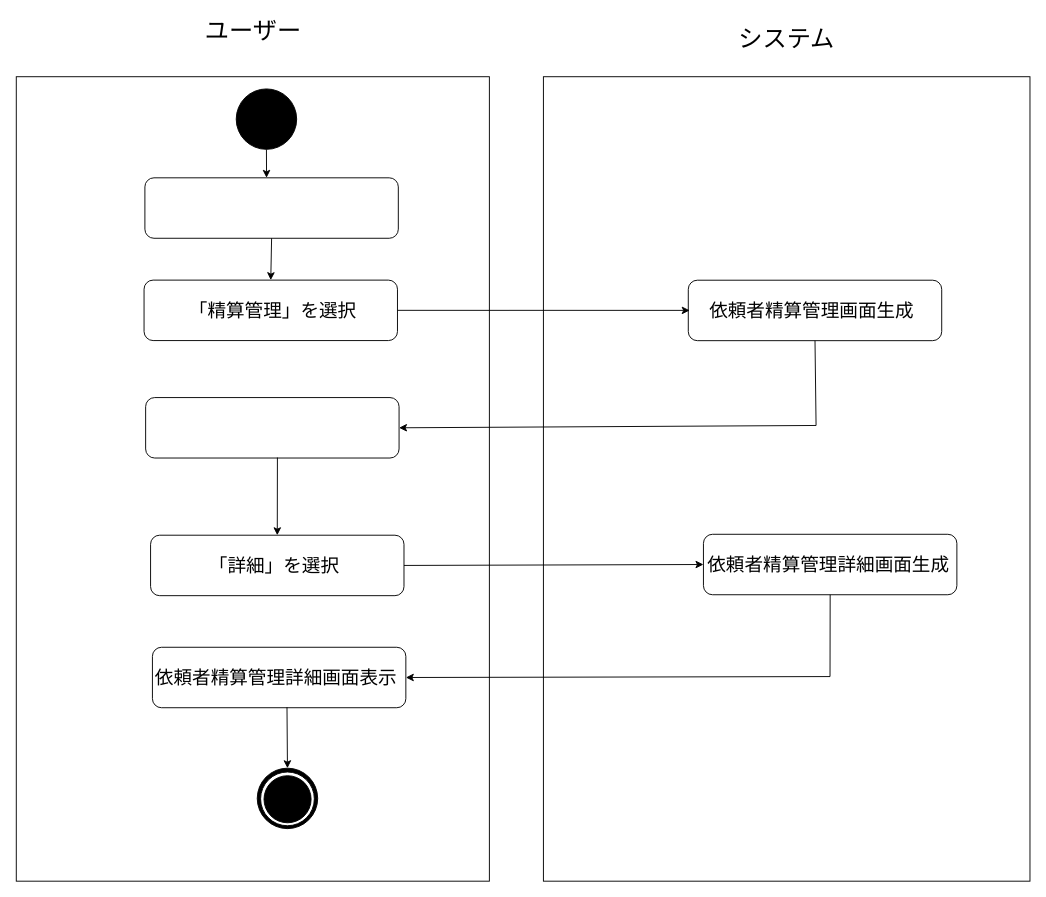
Some shapes in this 1046 by 897 pixel diagram are drawn without their labels. Each missing label, with the centre of its shape:
"依頼者精算管理画面表示" goes at point (272, 427).
"運営管理画面表示" goes at point (271, 207).
